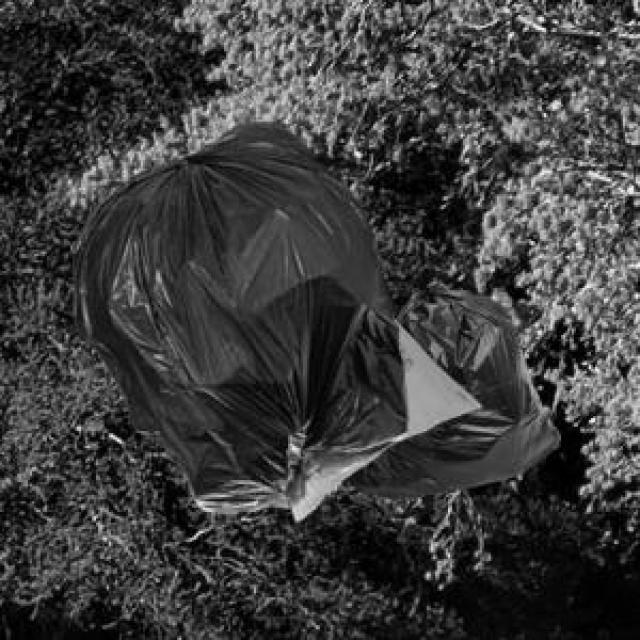miscellaneous trash: (70, 120, 403, 510), (346, 258, 555, 495)
